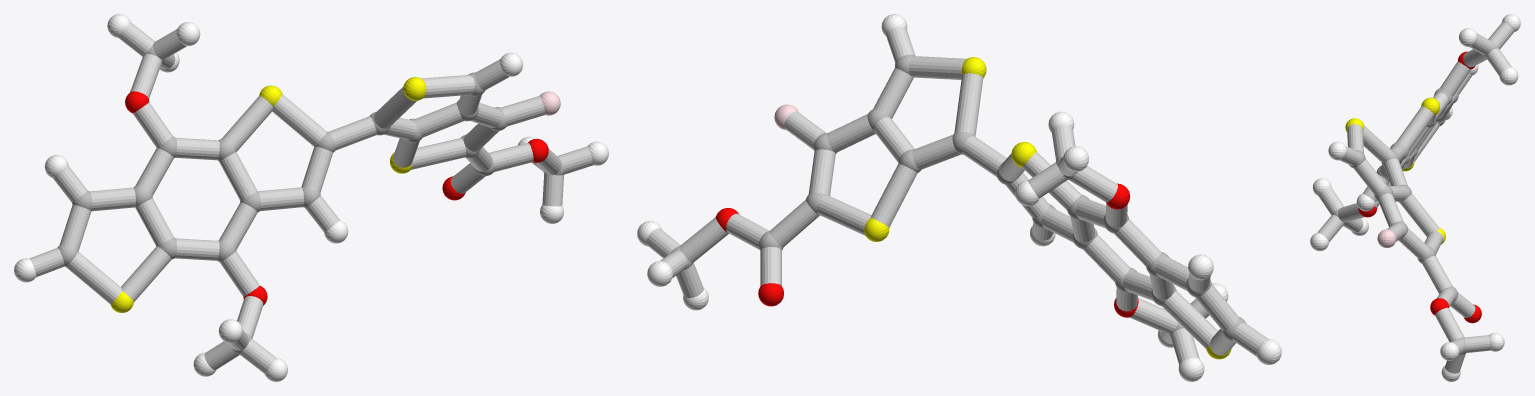
The model's file is Dimethoxy_Benzodithiophene_Phi_5_Theta_250_Methylcarbonyl_3_Fluoro_Thienothiophene.glb.
3 views of the same model, side by side, from view 1: azimuth 30°, elevation 25°; view 2: azimuth 150°, elevation 25°; view 3: azimuth 270°, elevation 25° (orthographic). The views are drawn at different scales.
Visible parts, largest first — view 1: grp15205, grp8689, grp1, grp7241, grp13395; view 2: grp15205, grp8689, grp1, grp7241, grp13395; view 3: grp15205, grp8689, grp1, grp13395, grp7241, grp14843.
Boxes of the visible parts, x1,y1,x2,y2 form: grp15205: (29, 22, 593, 373); grp8689: (14, 14, 608, 381); grp1: (57, 45, 563, 354); grp7241: (110, 77, 426, 312); grp13395: (125, 91, 548, 305); grp15205: (646, 27, 1268, 364); grp8689: (637, 14, 1281, 381); grp1: (671, 54, 1246, 341); grp7241: (864, 57, 1231, 359); grp13395: (715, 183, 1138, 317); grp15205: (1317, 22, 1514, 373); grp8689: (1310, 14, 1520, 381); grp1: (1332, 42, 1497, 354); grp13395: (1358, 51, 1481, 323); grp7241: (1345, 97, 1445, 244); grp14843: (1377, 229, 1396, 247).
Size of the model in its own units: 17.02 by 7.89 by 6.66.
